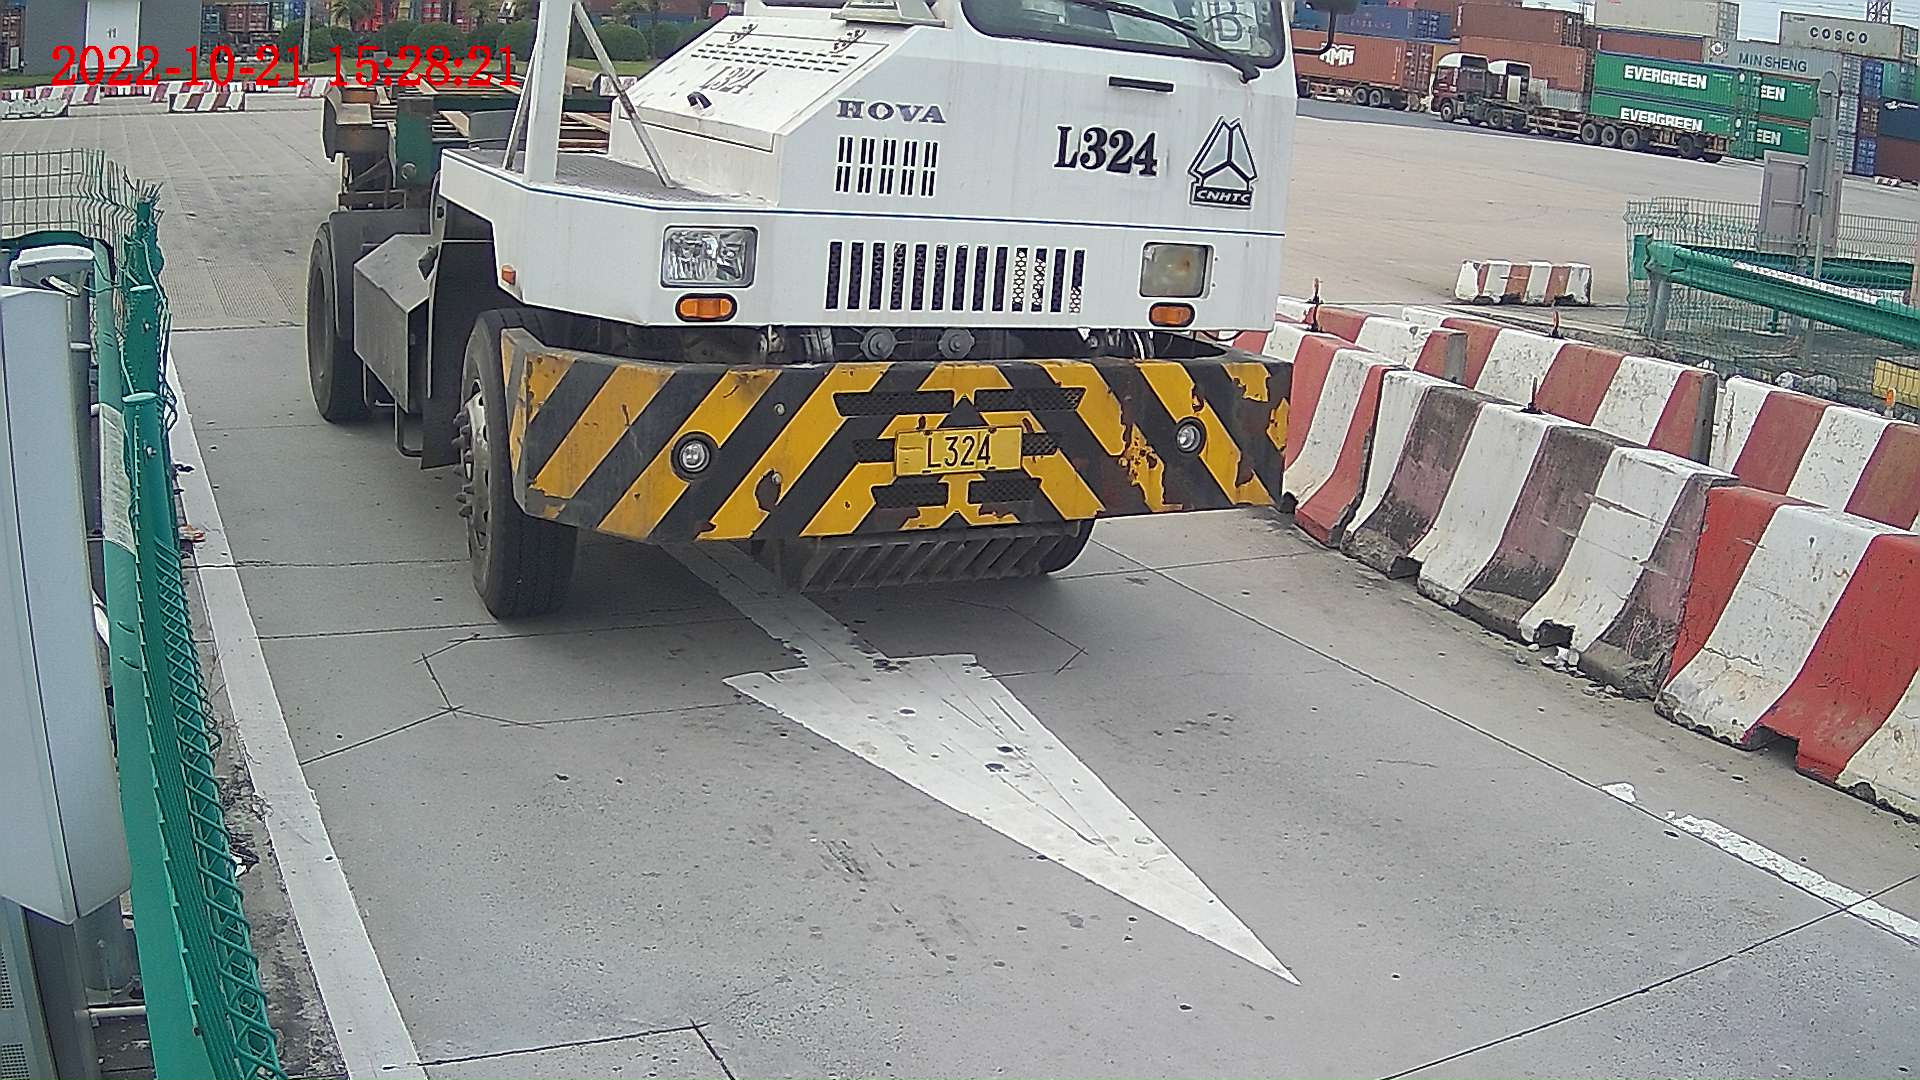head: (440, 1, 1304, 615)
plate: (896, 431, 1022, 472)
